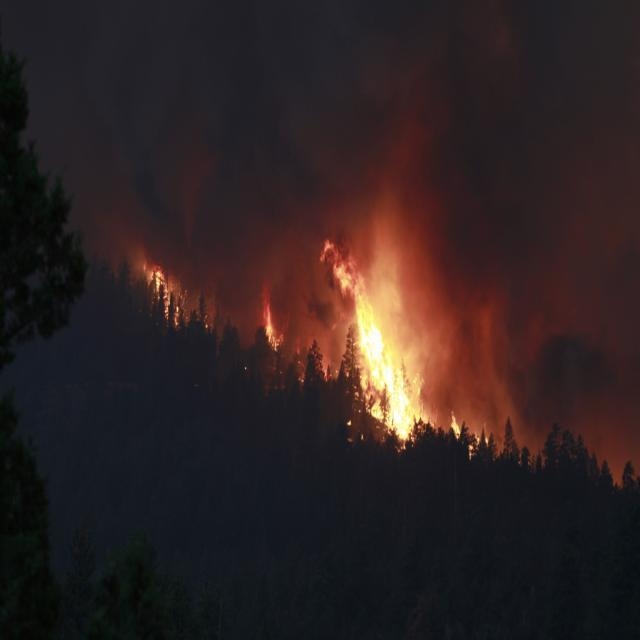Fire: (358, 309, 424, 431)
